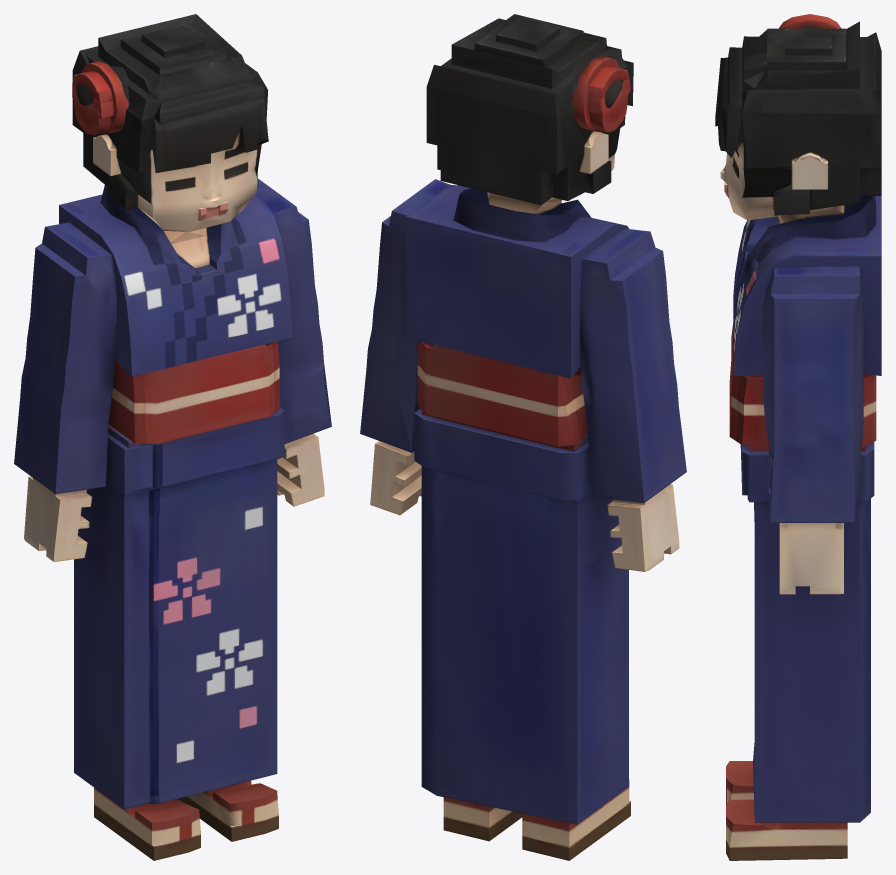
Rendered from mujer.obj.
The picture shows the model from 3 angles, left to right: view 1: azimuth 30°, elevation 25°; view 2: azimuth 150°, elevation 25°; view 3: azimuth 270°, elevation 25°; orthographic projection. The views are drawn at different scales.
Parts seen in each view (by area): view 1: model; view 2: model; view 3: model.
Part boxes in pixels (x1,y1,x2,y2): model: [14, 14, 331, 860]; model: [360, 14, 686, 860]; model: [715, 14, 881, 860].
Bounding box in the file's own units: 0.7063 × 1.9 × 0.3629.
Materials: 1 (1 with a texture image).
